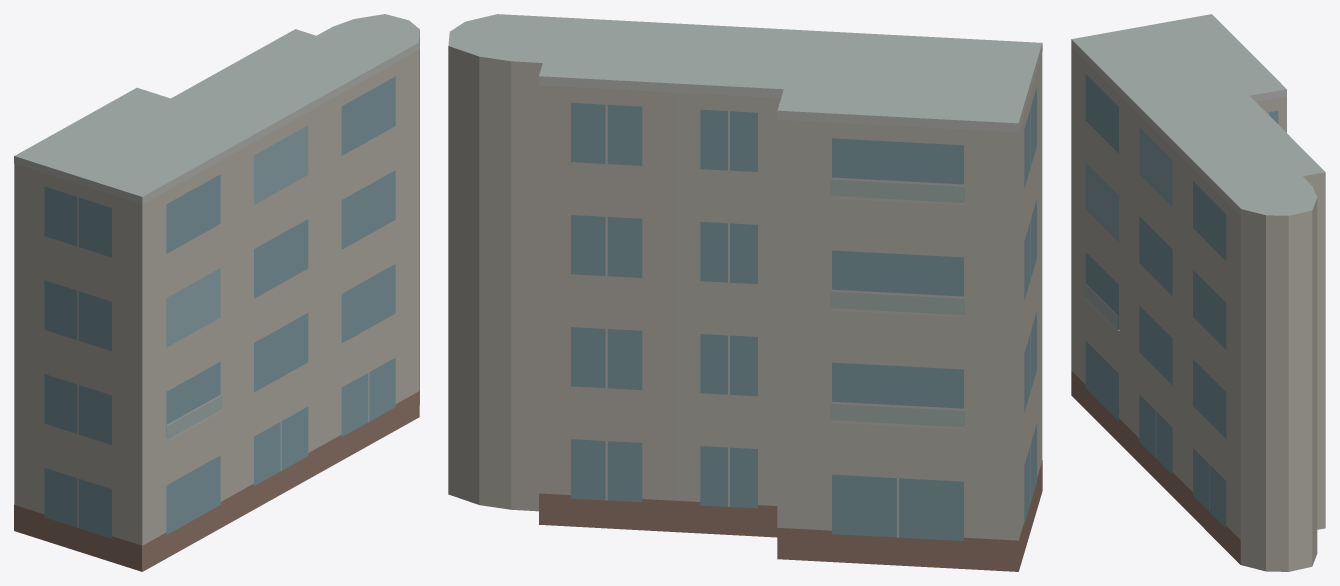
File: residential-07971272-3ebd-4762-8f1f-7f1673805998.glb
3 views of the same model, side by side, from view 1: azimuth 30°, elevation 25°; view 2: azimuth 150°, elevation 25°; view 3: azimuth 270°, elevation 25° (orthographic). The views are drawn at different scales.
Visible parts, largest first — view 1: residential-07971272-3ebd-4762-8f1f-7f1673805998.tmp; view 2: residential-07971272-3ebd-4762-8f1f-7f1673805998.tmp; view 3: residential-07971272-3ebd-4762-8f1f-7f1673805998.tmp.
Part boxes in pixels (left/top/right/bottom): residential-07971272-3ebd-4762-8f1f-7f1673805998.tmp: left=14, top=14, right=419, bottom=571; residential-07971272-3ebd-4762-8f1f-7f1673805998.tmp: left=448, top=14, right=1042, bottom=571; residential-07971272-3ebd-4762-8f1f-7f1673805998.tmp: left=1071, top=14, right=1325, bottom=571.
Size of the model in its own units: 14.82 by 12.2 by 7.9.
